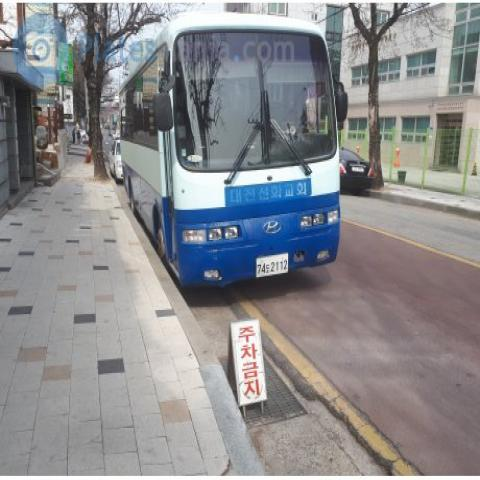LP: (249, 245, 293, 285)
